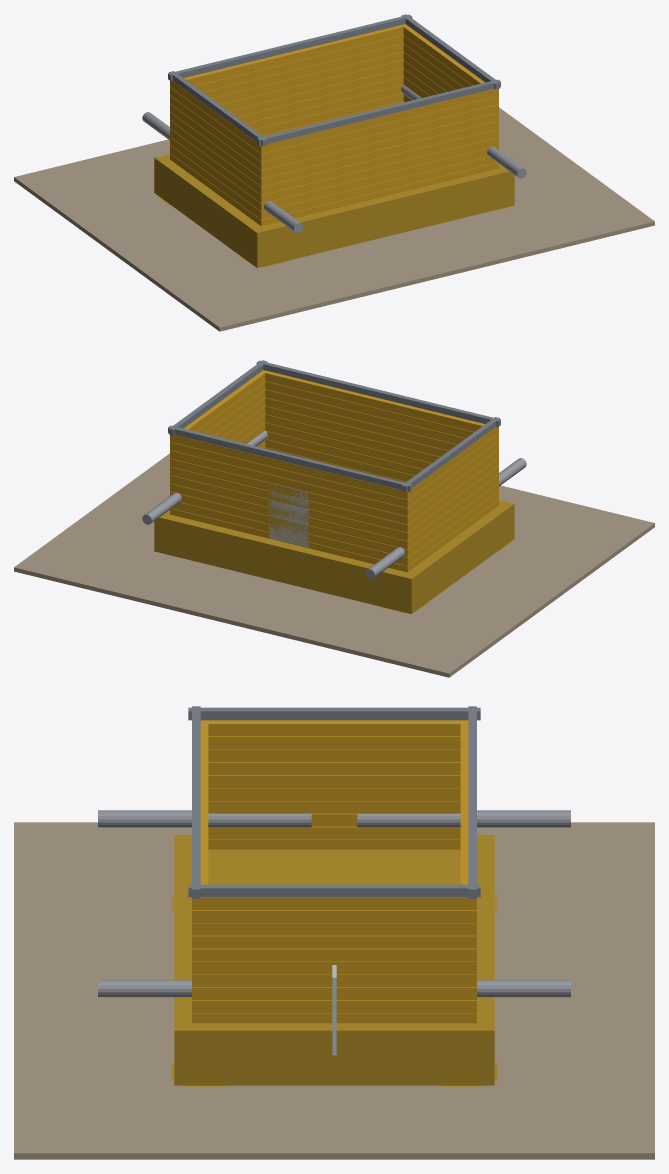
The model's file is stage_07_openings.glb.
3 views of the same model, one above another, from view 1: azimuth 30°, elevation 25°; view 2: azimuth 150°, elevation 25°; view 3: azimuth 270°, elevation 25° (orthographic). The views are drawn at different scales.
Visible parts, largest first — view 1: world; view 2: world; view 3: world.
Part boxes in pixels (box(x1,y1,x2,y2)): world: box(14, 14, 654, 331); world: box(14, 360, 654, 677); world: box(14, 706, 654, 1159).
Bounding box in the file's own units: 11 × 3.74 × 9.
